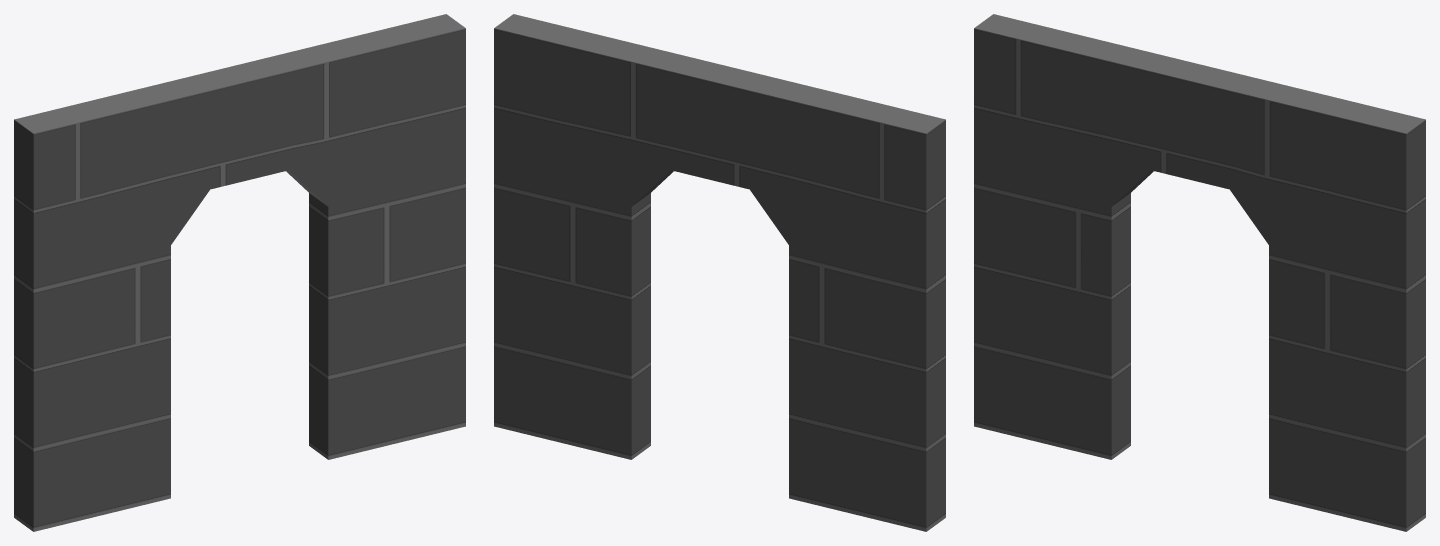
The model's file is wallHole.fbx.
3 renders of one model, left to right at view 1: azimuth 30°, elevation 25°; view 2: azimuth 150°, elevation 25°; view 3: azimuth 330°, elevation 25°, orthographic.
Parts seen in each view (by area): view 1: geo_wallHole; view 2: geo_wallHole; view 3: geo_wallHole.
Part boxes in pixels (x1=…): geo_wallHole: x1=14, y1=14, x2=465, y2=531; geo_wallHole: x1=494, y1=14, x2=945, y2=531; geo_wallHole: x1=974, y1=14, x2=1425, y2=531.
Bounding box in the file's own units: 701 × 617 × 54.56.
Materials: 1 (1 with a texture image).
